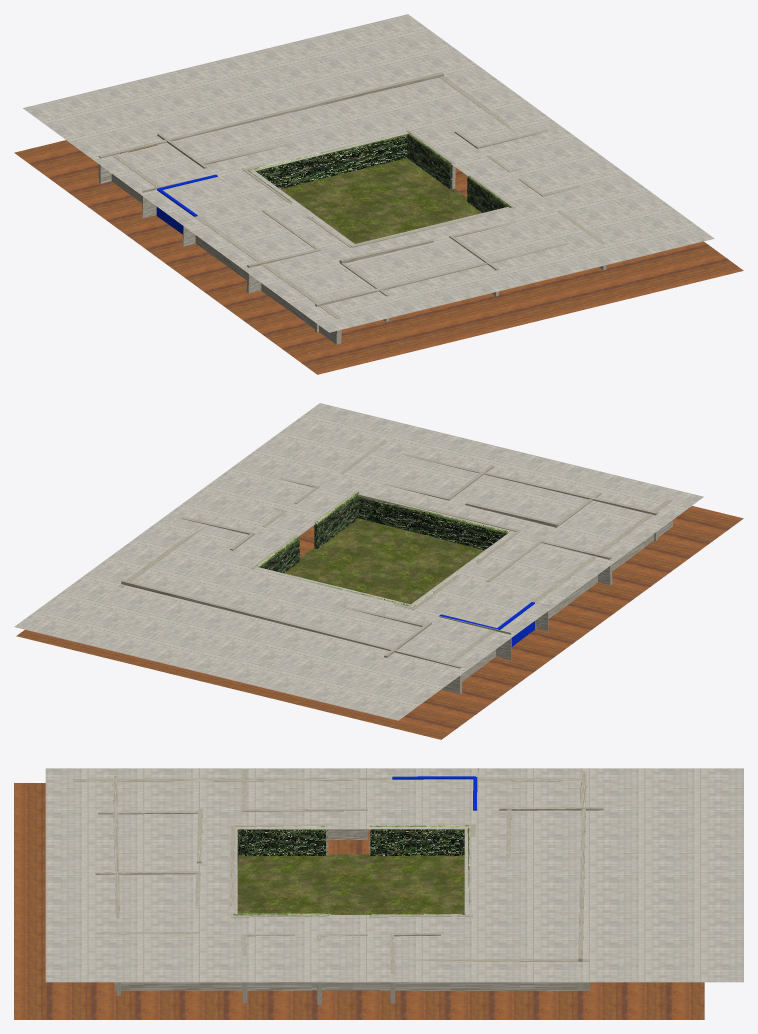
The model's file is mmap.glb.
The picture shows the model from 3 angles, top to bottom: view 1: azimuth 30°, elevation 25°; view 2: azimuth 150°, elevation 25°; view 3: azimuth 270°, elevation 25°; orthographic projection. The views are drawn at different scales.
Parts seen in each view (by area): view 1: roof, floor, grass, HEDGE.006, Cube.025, Cube.004, HEDGE.003, Cube.001, HEDGE.001; view 2: roof, floor, grass, HEDGE.005, Cube.004, Cube.025, HEDGE.001, Cube.001, HEDGE.003; view 3: roof, floor, grass, Cube.003, HEDGE.002, HEDGE.007, Cube.025, Cube.004, Cube.028, Cube.001.
Part boxes in pixels (x1,y1,x2,y2): roof: [23, 14, 714, 332]; floor: [14, 140, 743, 374]; grass: [280, 158, 481, 243]; HEDGE.006: [251, 134, 407, 188]; Cube.025: [195, 215, 341, 344]; Cube.004: [98, 72, 443, 183]; HEDGE.003: [407, 132, 451, 188]; Cube.001: [315, 243, 568, 332]; HEDGE.001: [467, 175, 511, 212]; roof: [14, 403, 703, 720]; floor: [16, 506, 743, 739]; grass: [284, 518, 484, 604]; HEDGE.005: [359, 496, 509, 550]; Cube.004: [121, 580, 461, 693]; Cube.025: [530, 499, 672, 628]; HEDGE.001: [314, 492, 359, 548]; Cube.001: [402, 453, 657, 540]; HEDGE.003: [256, 536, 299, 573]; roof: [45, 768, 743, 982]; floor: [14, 783, 704, 1019]; grass: [237, 854, 464, 914]; Cube.003: [114, 959, 589, 990]; HEDGE.002: [370, 825, 470, 855]; HEDGE.007: [237, 826, 327, 855]; Cube.025: [73, 778, 392, 781]; Cube.004: [578, 771, 586, 990]; Cube.028: [242, 808, 367, 839]; Cube.001: [112, 775, 120, 995].
Size of the model in its own units: 97.19 by 8.16 by 127.
141 materials, 133 textured.
